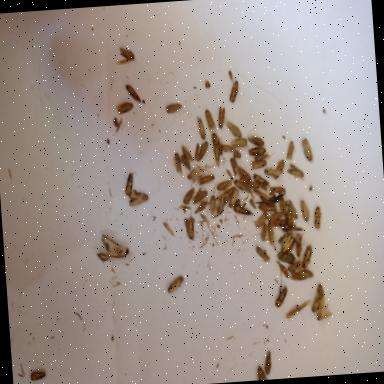pbw: (285, 300, 311, 318), (233, 178, 252, 202), (315, 294, 332, 320), (210, 132, 223, 166), (300, 239, 315, 268), (274, 278, 288, 306), (184, 216, 199, 240), (115, 46, 135, 64), (274, 248, 296, 264), (290, 267, 314, 281), (294, 228, 306, 256), (124, 172, 138, 196), (225, 187, 240, 209), (252, 172, 270, 190), (166, 275, 184, 293), (286, 160, 304, 178), (129, 190, 149, 206), (226, 118, 242, 138), (196, 140, 210, 162), (191, 186, 208, 204), (230, 136, 254, 148), (186, 163, 204, 179), (272, 159, 286, 179), (233, 202, 253, 216), (204, 108, 216, 131), (255, 244, 270, 262), (116, 100, 134, 115), (172, 151, 182, 177), (280, 234, 294, 252), (126, 84, 140, 102), (222, 184, 236, 202), (228, 80, 239, 102), (286, 198, 298, 218), (312, 204, 322, 228), (284, 139, 296, 159), (300, 198, 310, 222), (278, 194, 288, 218), (302, 137, 312, 161), (182, 187, 196, 204), (238, 164, 252, 181), (181, 144, 194, 162), (216, 196, 228, 215), (286, 258, 302, 272), (254, 212, 268, 228), (282, 242, 296, 258), (277, 260, 289, 278), (268, 183, 286, 195), (196, 172, 214, 184), (254, 150, 275, 160), (194, 200, 210, 213), (217, 105, 226, 128), (162, 220, 174, 237), (247, 134, 264, 146), (230, 157, 240, 177), (258, 201, 278, 211), (268, 221, 276, 245), (166, 101, 182, 113), (264, 350, 272, 374), (216, 178, 232, 190), (263, 166, 282, 176), (276, 231, 289, 245), (248, 146, 266, 156), (243, 179, 261, 189), (214, 189, 229, 201), (285, 211, 294, 231), (198, 116, 206, 138), (180, 153, 190, 170), (267, 210, 284, 220), (310, 294, 320, 311), (250, 160, 266, 170), (30, 370, 46, 380), (209, 194, 216, 216), (281, 224, 303, 231), (257, 365, 267, 380), (192, 142, 200, 160), (260, 224, 268, 240), (272, 219, 286, 226), (259, 195, 273, 202), (222, 144, 234, 152), (233, 148, 242, 158), (253, 188, 264, 196), (249, 198, 256, 210)
